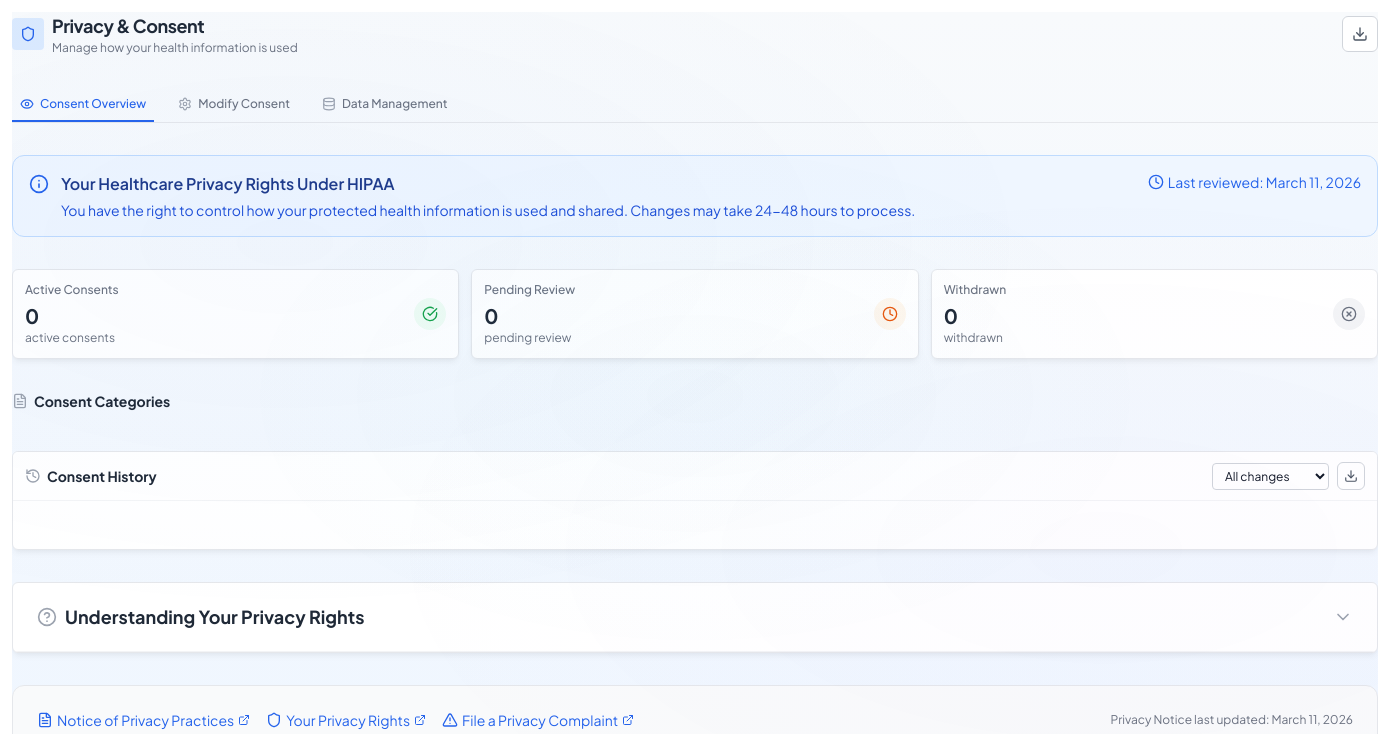
Scenario: ConsentManagement › displays help section that can be expanded
Click the heading "Understanding Your Privacy Rights".
click(201, 617)  # box [37,603,364,631]
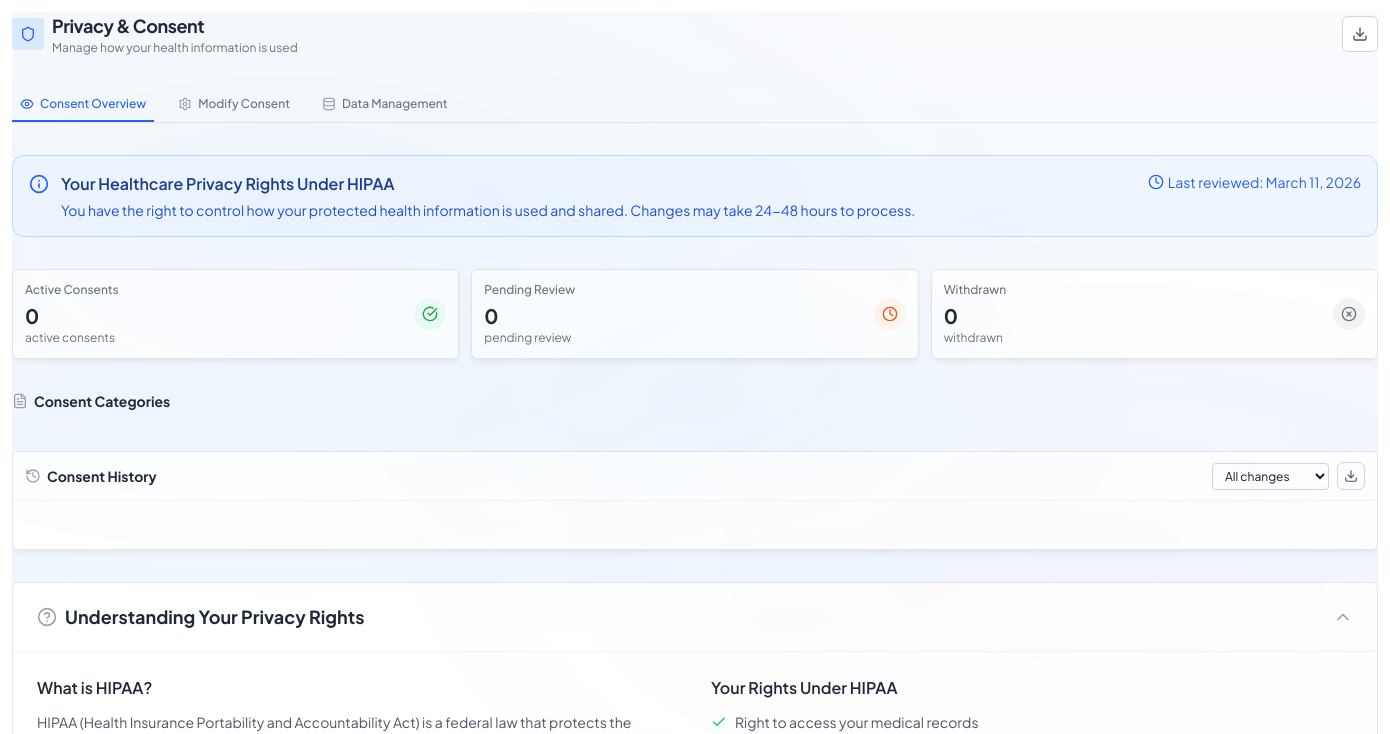
Result: the heading "What is HIPAA?" is shown at [37,677,152,698]
